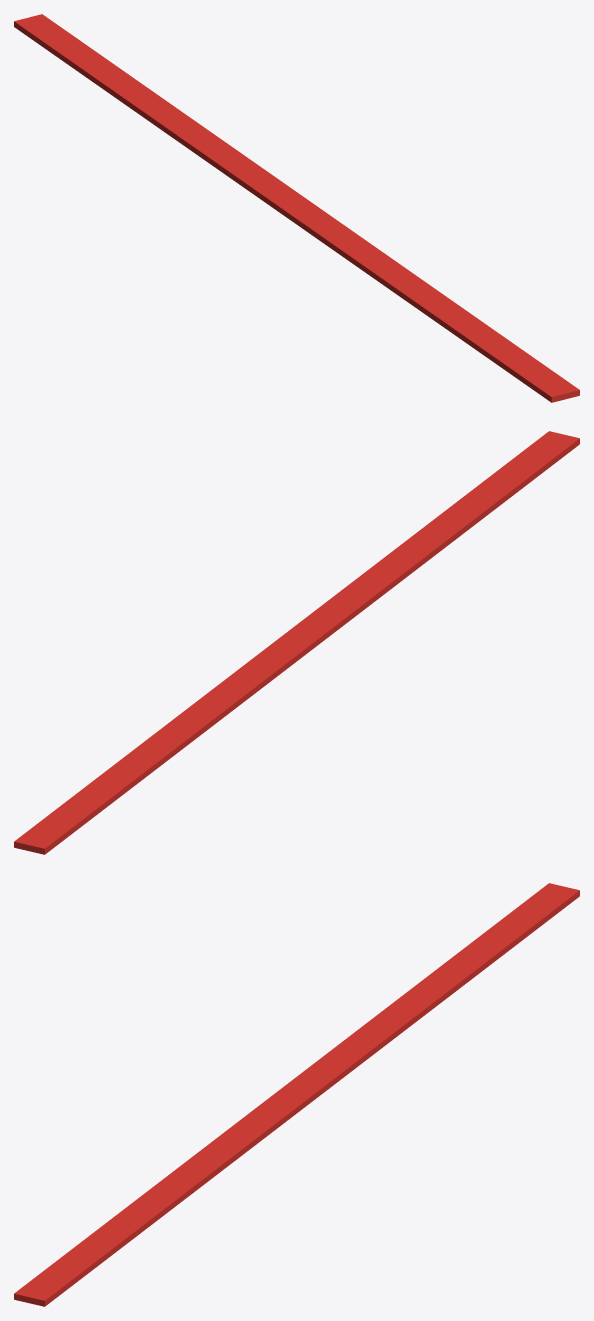
File: mwall_sur_top.001_lev5.glb
3 views of the same model, one above another, from view 1: azimuth 30°, elevation 25°; view 2: azimuth 150°, elevation 25°; view 3: azimuth 330°, elevation 25° (orthographic). The views are drawn at different scales.
Parts seen in each view (by area): view 1: mwall_sur_top.001_lev5; view 2: mwall_sur_top.001_lev5; view 3: mwall_sur_top.001_lev5.
Part boxes in pixels (left/top/right/bottom): mwall_sur_top.001_lev5: left=14, top=14, right=579, bottom=402; mwall_sur_top.001_lev5: left=14, top=431, right=579, bottom=854; mwall_sur_top.001_lev5: left=14, top=883, right=579, bottom=1306.
Size of the model in its own units: 3.11 by 0.36 by 59.99.
